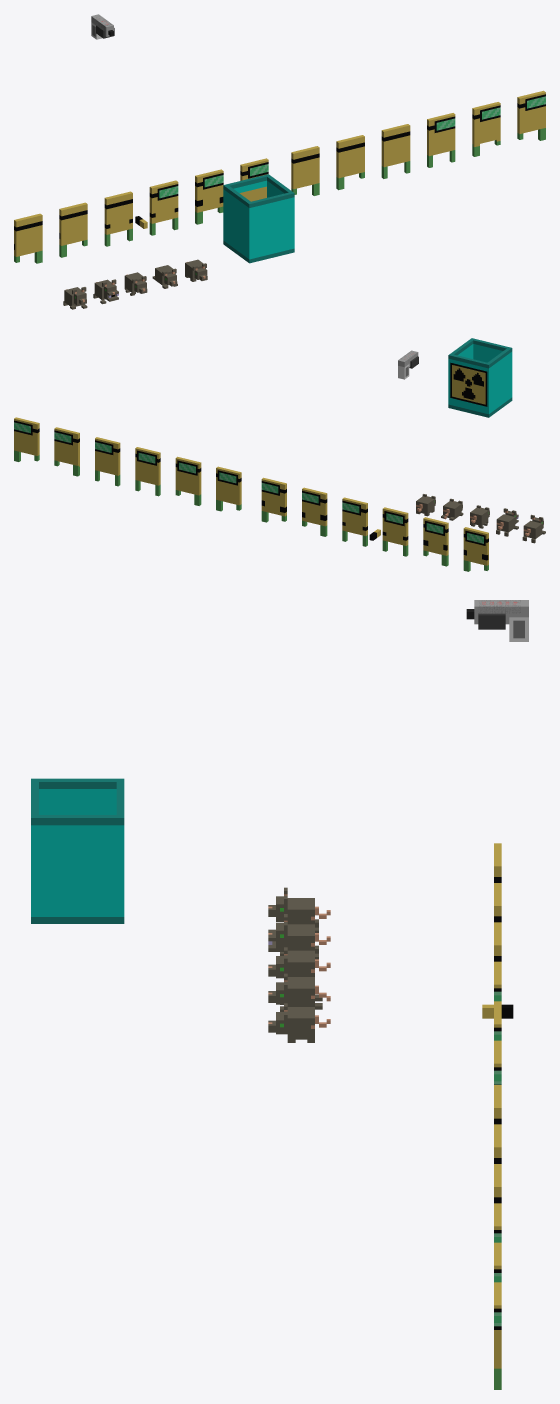
3 renders of one model, top to bottom at view 1: azimuth 30°, elevation 25°; view 2: azimuth 150°, elevation 25°; view 3: azimuth 270°, elevation 25°, orthographic. The views are drawn at different scales.
Parts seen in each view (by area): view 1: Box_1, ew_rest, ns_rest_na, ns_rest, ew_rest_na, ns_left_na, ns_right, ew_right, ew_left_na, ew_right_na, ns_left, ns_right_na (+7 smaller); view 2: Box_1, ns_rest, ns_left_na, ew_rest, ns_rest_na, ew_rest_na, ns_left, ew_left, ew_right, ns_right, ew_right_na, ns_right_na (+7 smaller); view 3: Box_1, Box, rat_attack, rat_rest, rat_run_1, rat_attack_2, rat_run_2.
Boxes of the visible parts, bbox=[...] form: Box_1: bbox=[223, 174, 294, 263]; ew_rest: bbox=[149, 180, 178, 235]; ns_rest_na: bbox=[381, 124, 410, 178]; ns_rest: bbox=[104, 191, 132, 246]; ew_rest_na: bbox=[427, 113, 455, 167]; ns_left_na: bbox=[336, 135, 364, 190]; ns_right: bbox=[14, 213, 42, 263]; ew_right: bbox=[195, 169, 223, 224]; ew_left_na: bbox=[517, 90, 545, 140]; ew_right_na: bbox=[472, 102, 500, 156]; ns_left: bbox=[59, 202, 87, 257]; ns_right_na: bbox=[291, 146, 319, 195]; Box_1: bbox=[448, 338, 512, 417]; ns_rest: bbox=[382, 507, 408, 556]; ns_left_na: bbox=[175, 456, 201, 505]; ew_rest: bbox=[342, 497, 367, 546]; ns_rest_na: bbox=[135, 447, 160, 496]; ew_rest_na: bbox=[95, 437, 120, 486]; ns_left: bbox=[423, 517, 448, 566]; ew_left: bbox=[261, 477, 286, 522]; ew_right: bbox=[302, 487, 327, 536]; ns_right: bbox=[463, 527, 488, 571]; ew_right_na: bbox=[54, 427, 79, 476]; ns_right_na: bbox=[216, 466, 241, 511]; Box_1: bbox=[31, 778, 124, 923]; Box: bbox=[466, 600, 528, 641]; rat_attack: bbox=[268, 914, 330, 959]; rat_rest: bbox=[268, 1003, 330, 1042]; rat_run_1: bbox=[268, 973, 330, 1011]; rat_attack_2: bbox=[268, 887, 330, 932]; rat_run_2: bbox=[268, 947, 330, 978].
Bounding box in the file's own units: 283 × 114 × 128.
